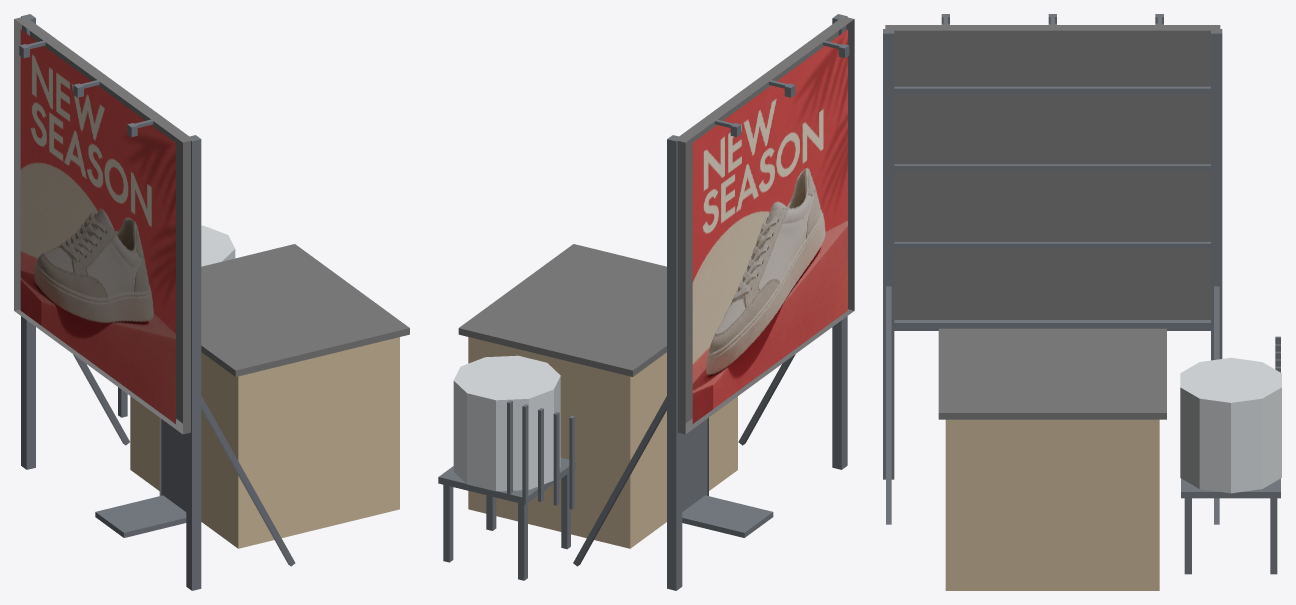
File: roofprop_close.fbx
3 views of the same model, side by side, from view 1: azimuth 30°, elevation 25°; view 2: azimuth 150°, elevation 25°; view 3: azimuth 270°, elevation 25° (orthographic).
Visible parts, largest first — view 1: a2009/200/roofprop_close; view 2: a2009/200/roofprop_close; view 3: a2009/200/roofprop_close.
Part boxes in pixels (x1,y1,x2,y2): a2009/200/roofprop_close: [14, 14, 409, 590]; a2009/200/roofprop_close: [438, 14, 854, 590]; a2009/200/roofprop_close: [883, 14, 1281, 590].
Size of the model in its own units: 4.45 by 6.92 by 5.59.
